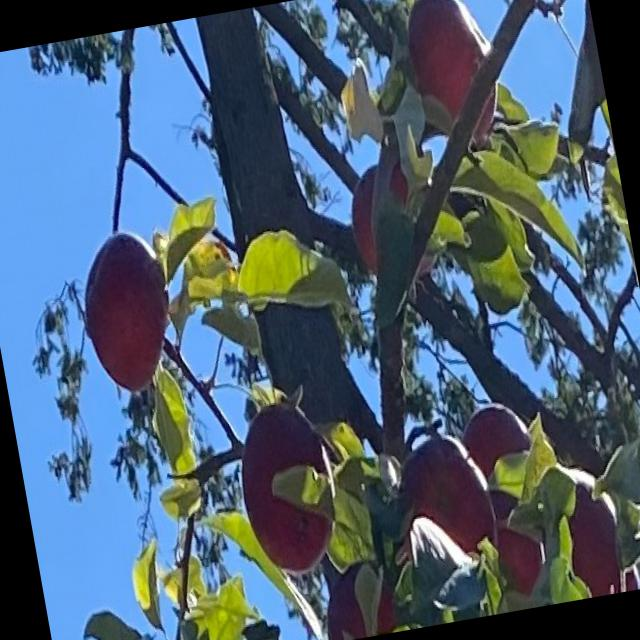Apples: (228, 396, 344, 576), (71, 230, 181, 389), (390, 424, 499, 569), (399, 0, 504, 139), (342, 154, 439, 288), (550, 461, 628, 599), (458, 396, 543, 522), (310, 553, 401, 639), (488, 508, 550, 594), (581, 546, 637, 596)
